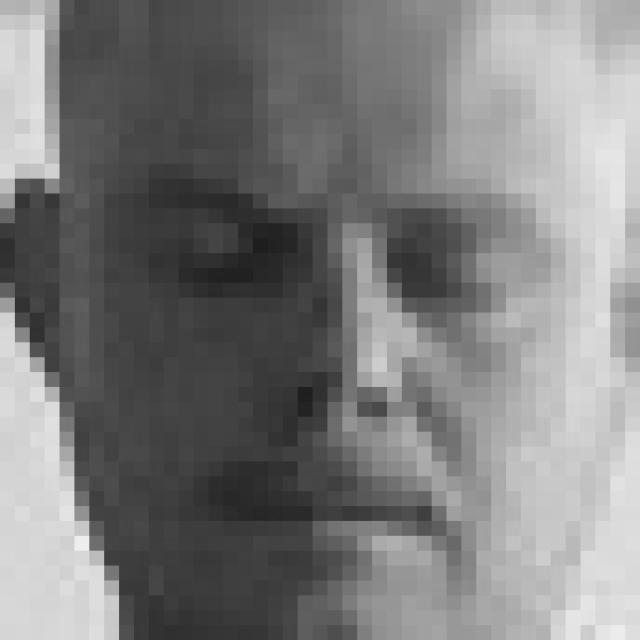real: (79, 0, 568, 640), (131, 194, 570, 322)
